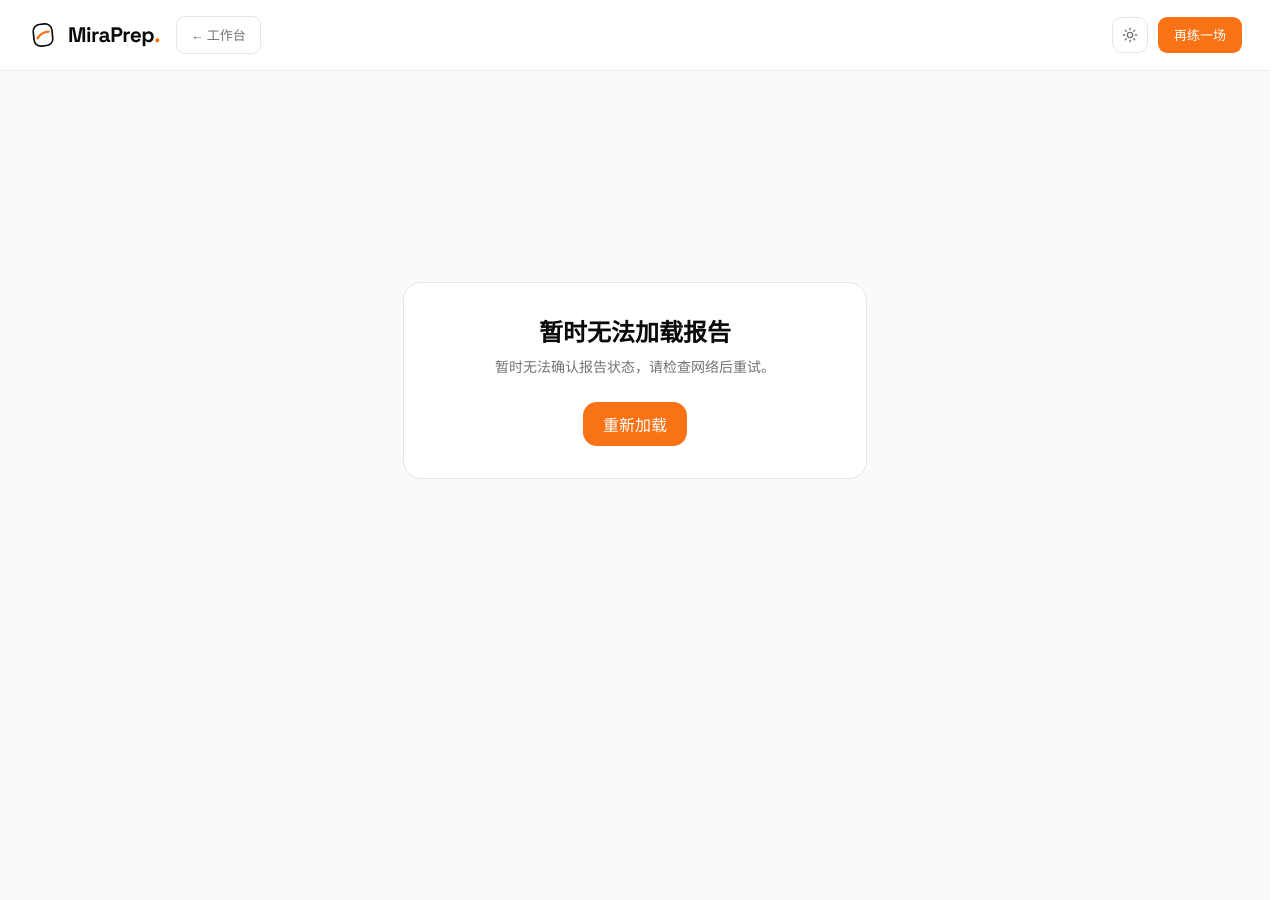
it: ReportClient › shows a friendly error and can retry
expect the heading "暂时无法加载报告" is shown: met, box [539,313,731,348]
Step 1. Click the button "重新加载" → (635, 424), box [583,402,687,446]
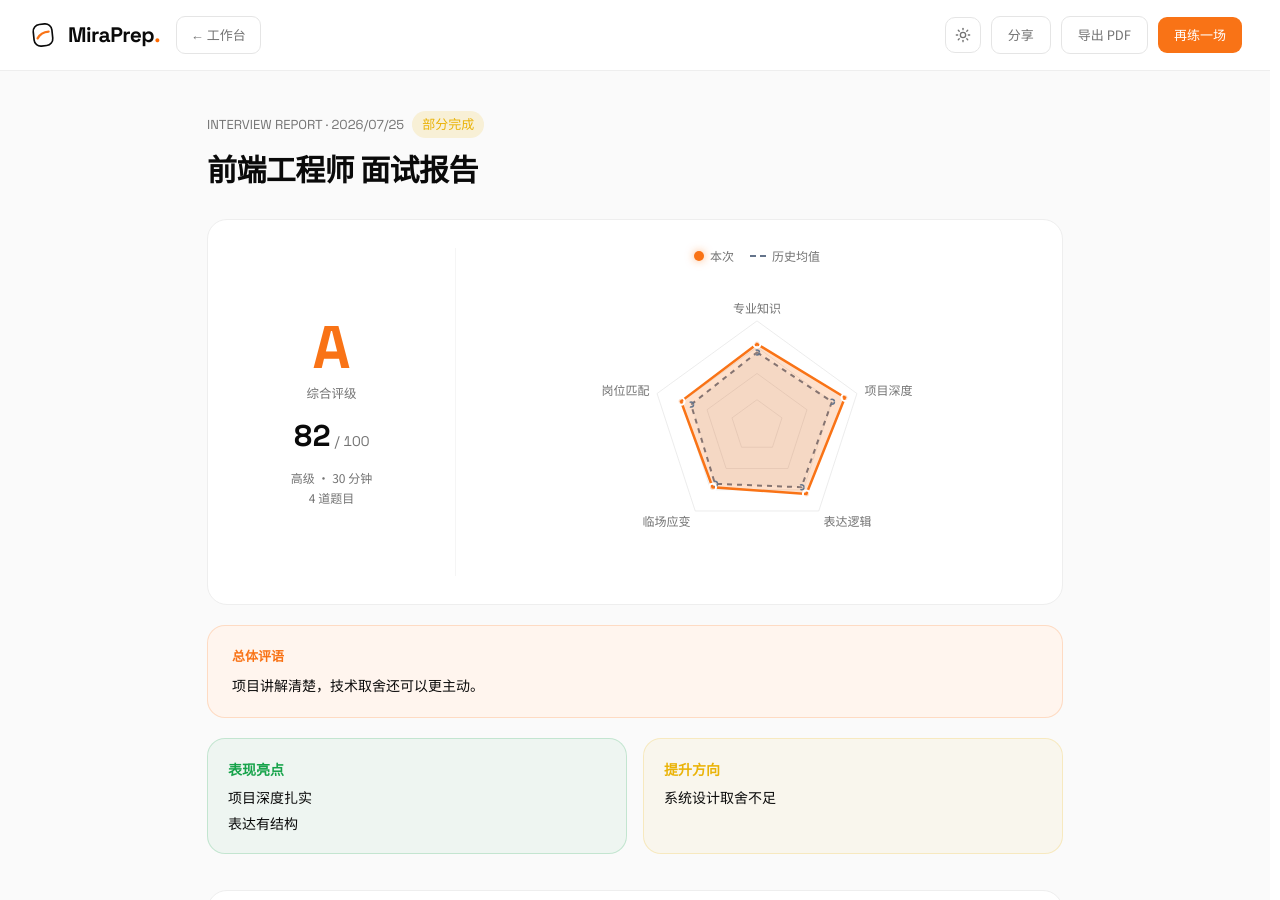
expect the heading "前端工程师 面试报告" is shown: met, box [207,146,478,190]
